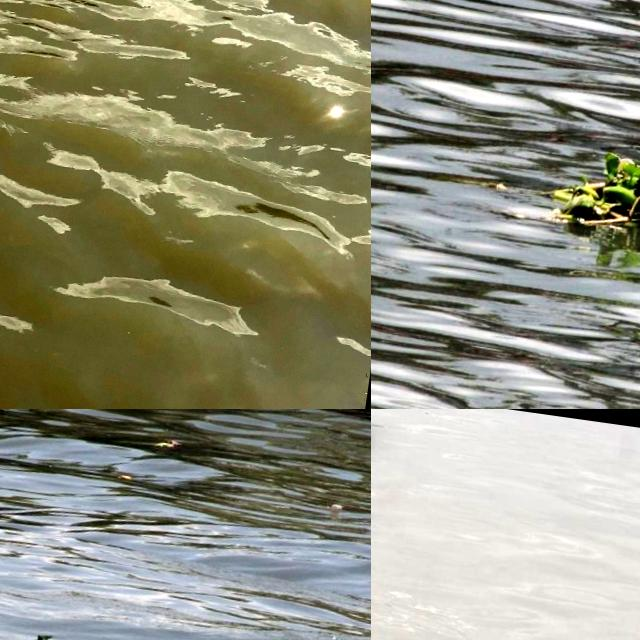water-hyacinth: (540, 81, 640, 258)
